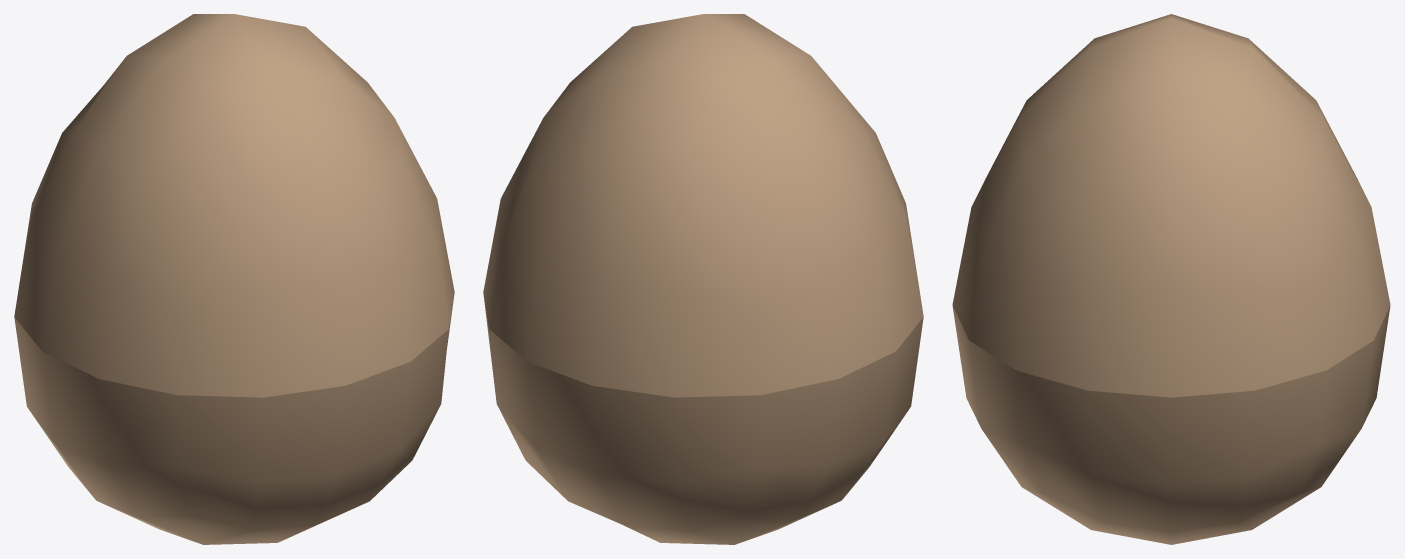
File: New_egg_pieces.fbx
3 renders of one model, left to right at view 1: azimuth 30°, elevation 25°; view 2: azimuth 150°, elevation 25°; view 3: azimuth 270°, elevation 25°, orthographic.
Visible parts, largest first — view 1: Egg_piece_top, Egg_piece_bottom; view 2: Egg_piece_top, Egg_piece_bottom; view 3: Egg_piece_top, Egg_piece_bottom.
Boxes of the visible parts, x1,y1,x2,y2 form: Egg_piece_top: [14, 14, 454, 397]; Egg_piece_bottom: [14, 298, 453, 544]; Egg_piece_top: [483, 14, 923, 397]; Egg_piece_bottom: [483, 296, 923, 544]; Egg_piece_top: [952, 14, 1390, 397]; Egg_piece_bottom: [952, 306, 1390, 544].
Bounding box in the file's own units: 655 × 834 × 655.
